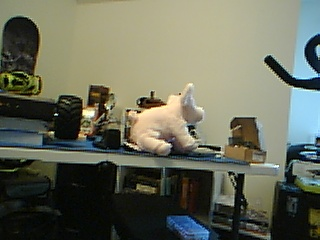piggy: (126, 82, 206, 157)
